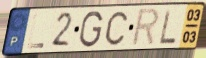2: (48, 11, 75, 51)
C: (104, 9, 129, 47)
G: (78, 10, 105, 49)
L: (159, 8, 178, 47), (26, 13, 46, 50)
R: (129, 7, 161, 49)
